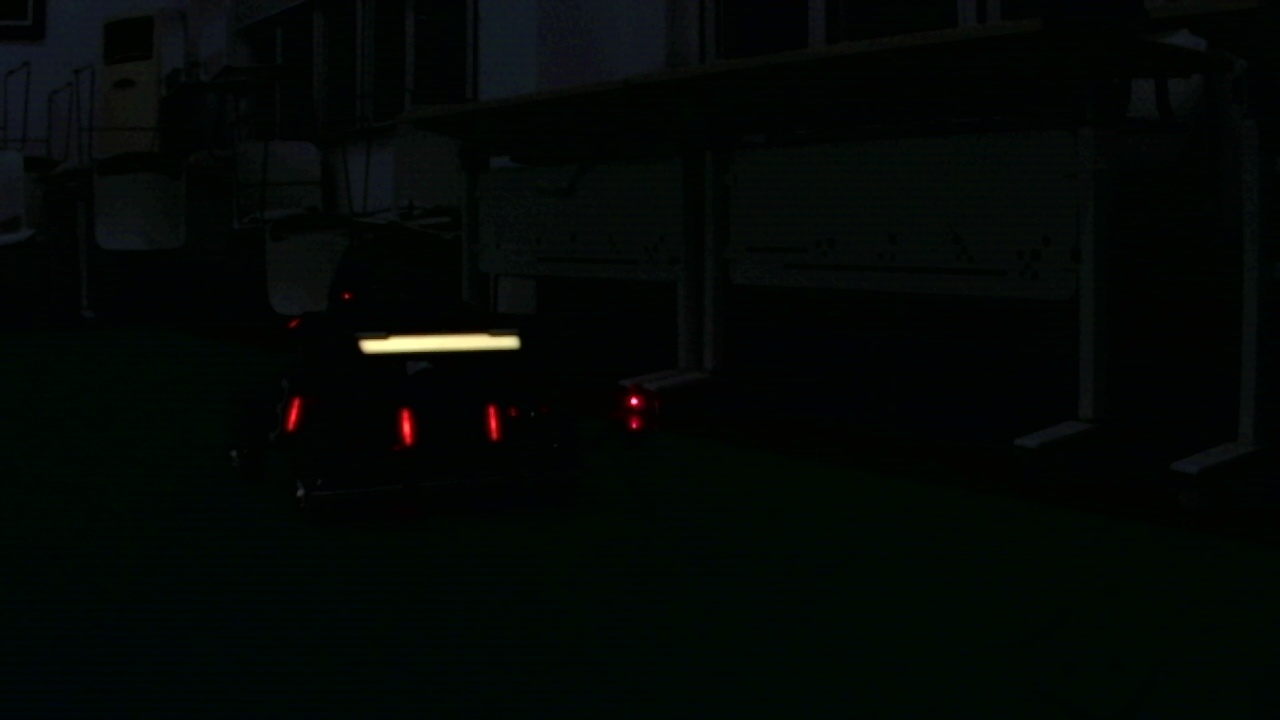lamp: (397, 409, 414, 447), (483, 405, 500, 441), (284, 395, 300, 433)
pair1: (399, 404, 498, 439)
